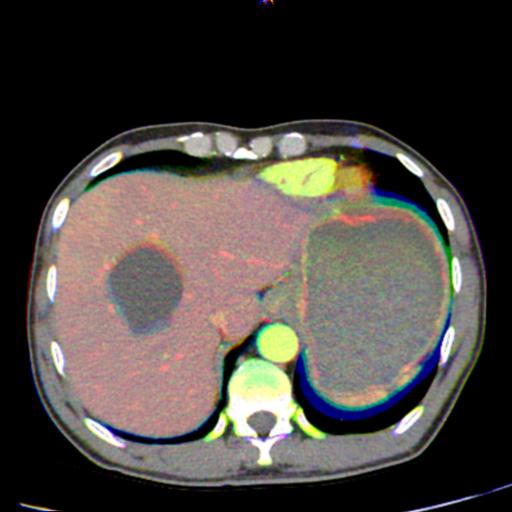Cyst: (107, 247, 182, 334)
